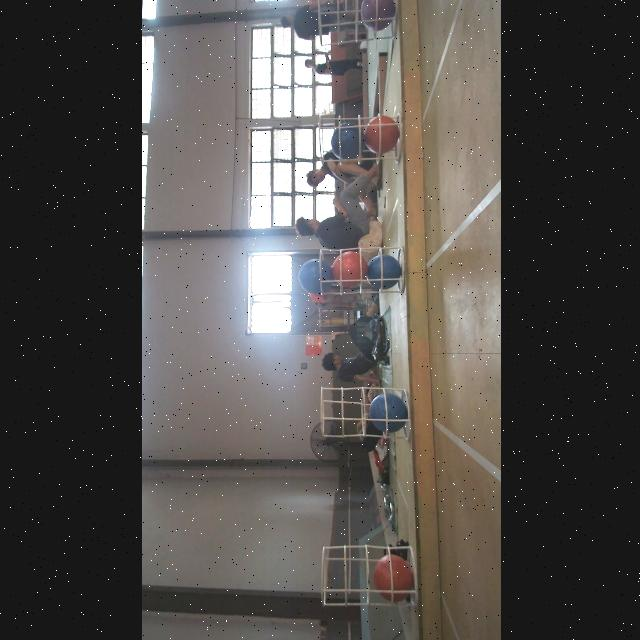B: (368, 391, 406, 434), (363, 253, 402, 289), (295, 260, 331, 296), (328, 124, 364, 160)
R: (368, 554, 412, 600), (364, 116, 402, 152), (332, 250, 368, 286)
